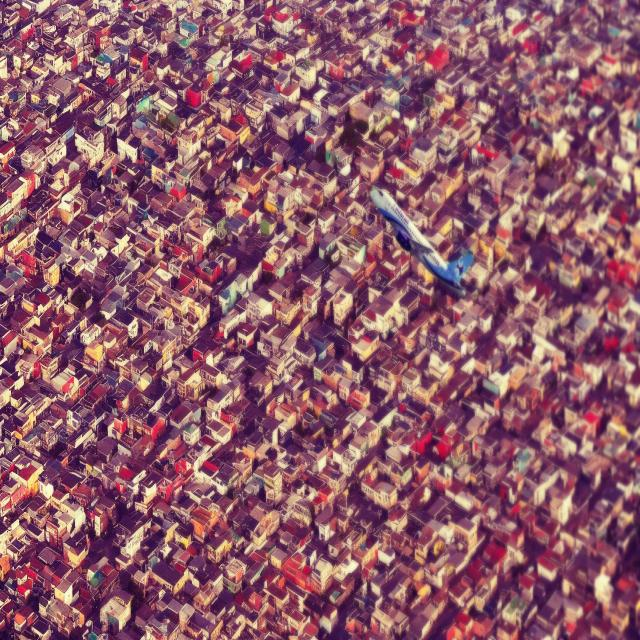airplane: (369, 184, 475, 298)
